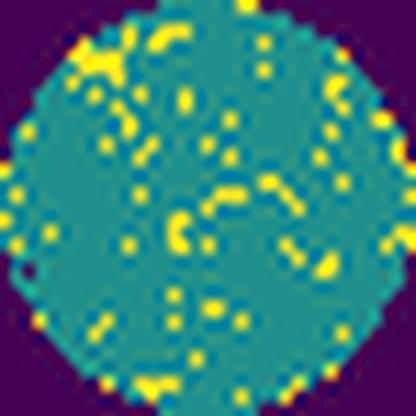Edge-Loc: (62, 20, 139, 93)
